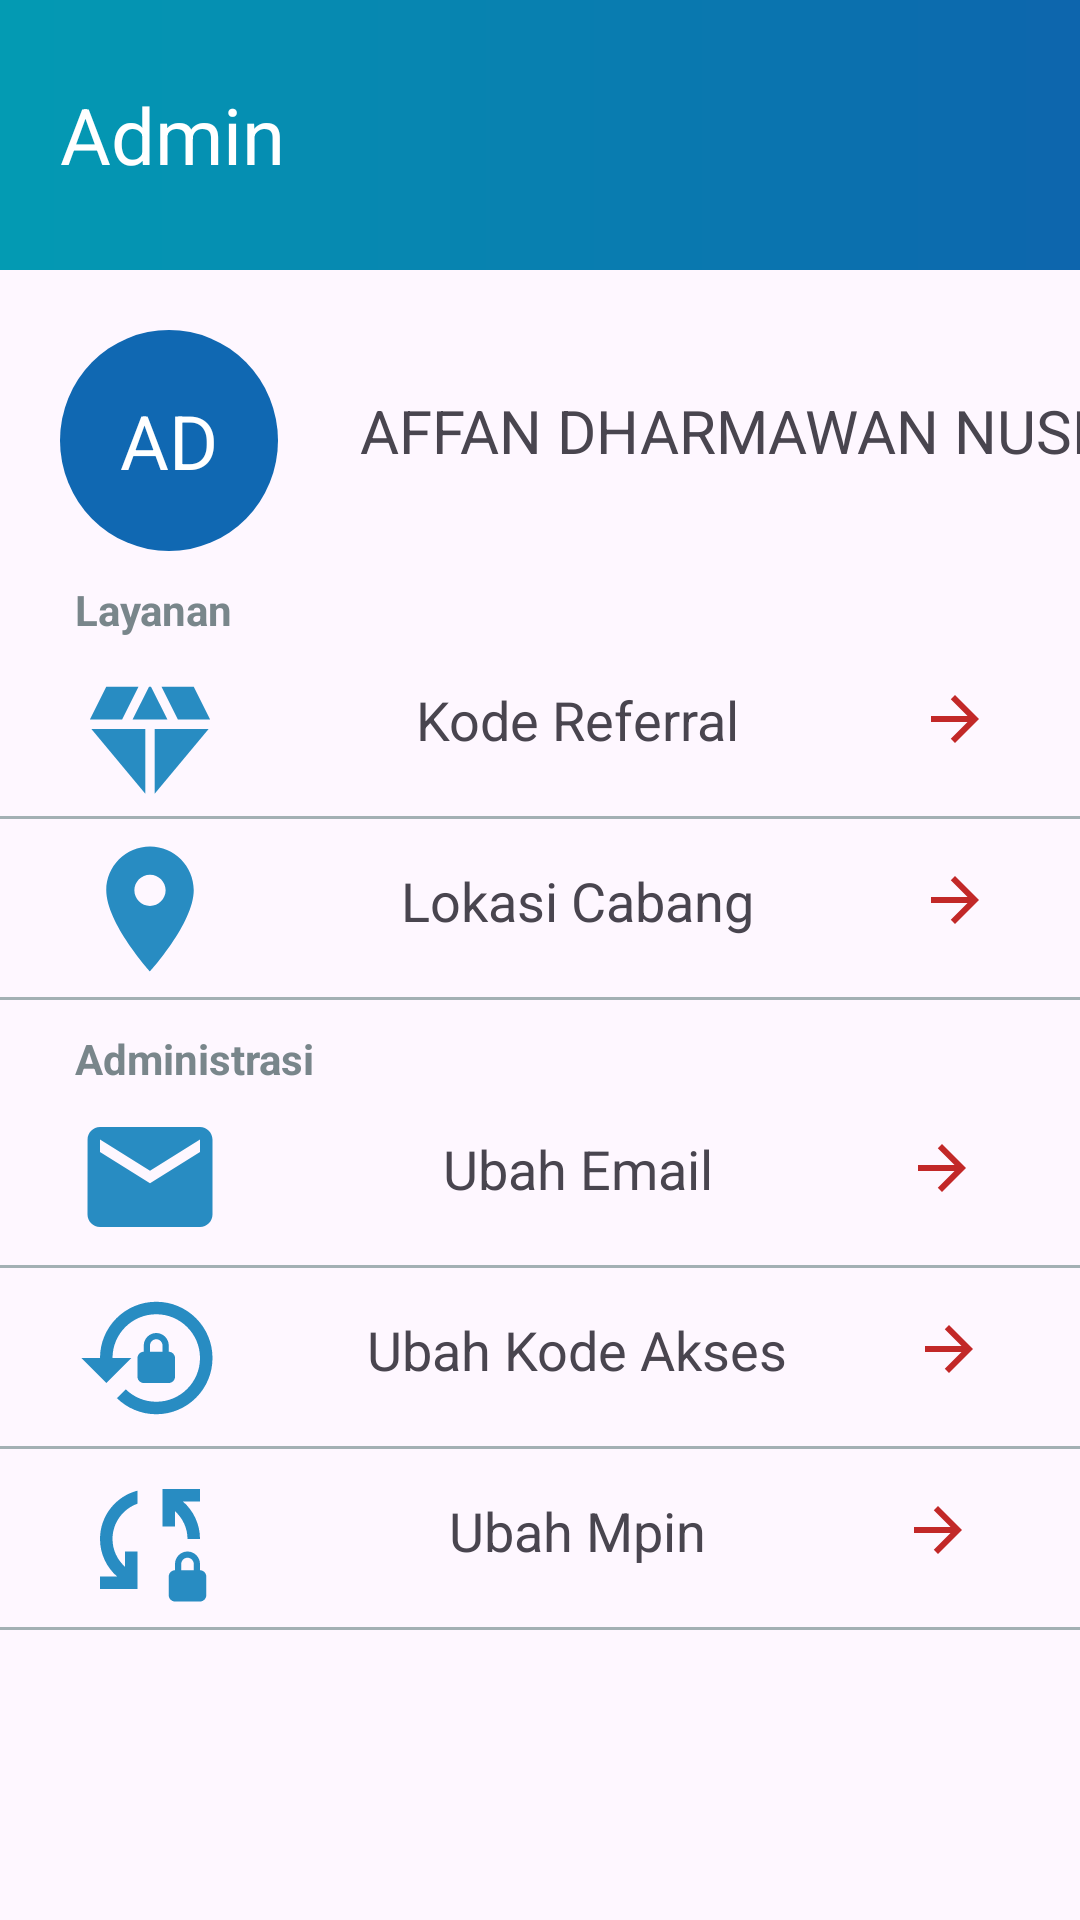

Screen size 1080w x 1920h. Icon name, then its center in pixels as [x,y]:
diamond kode: [150,740]
email: [150,1177]
location on: [150,909]
lock reset: [147,1358]
sync lock: [153,1545]
